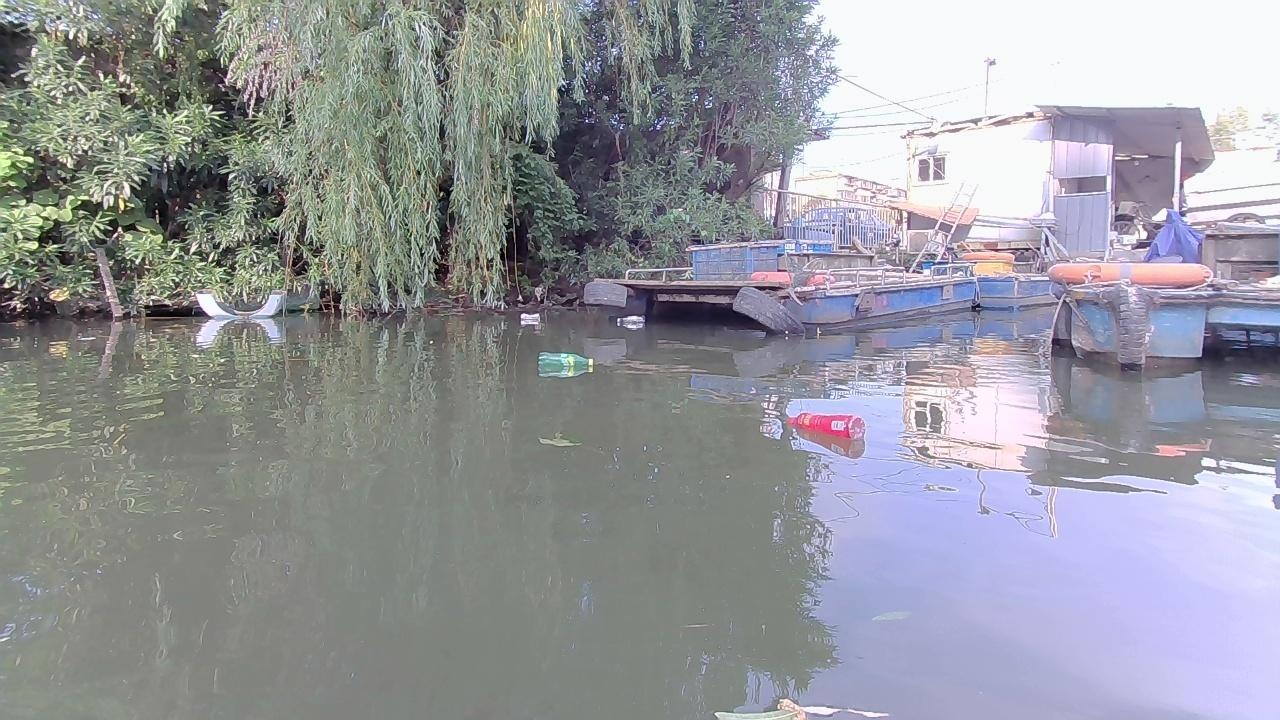bottle: (780, 409, 865, 444), (534, 351, 595, 371), (612, 316, 645, 330), (516, 310, 544, 322)
